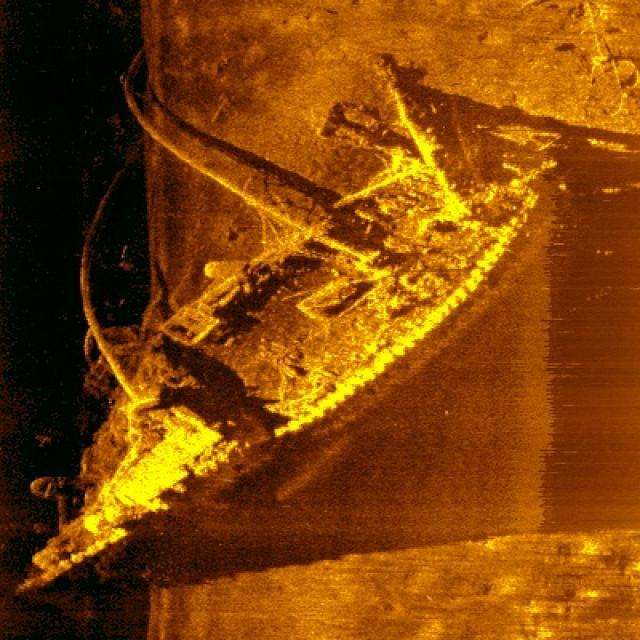shipwreck: (35, 142, 544, 586)
